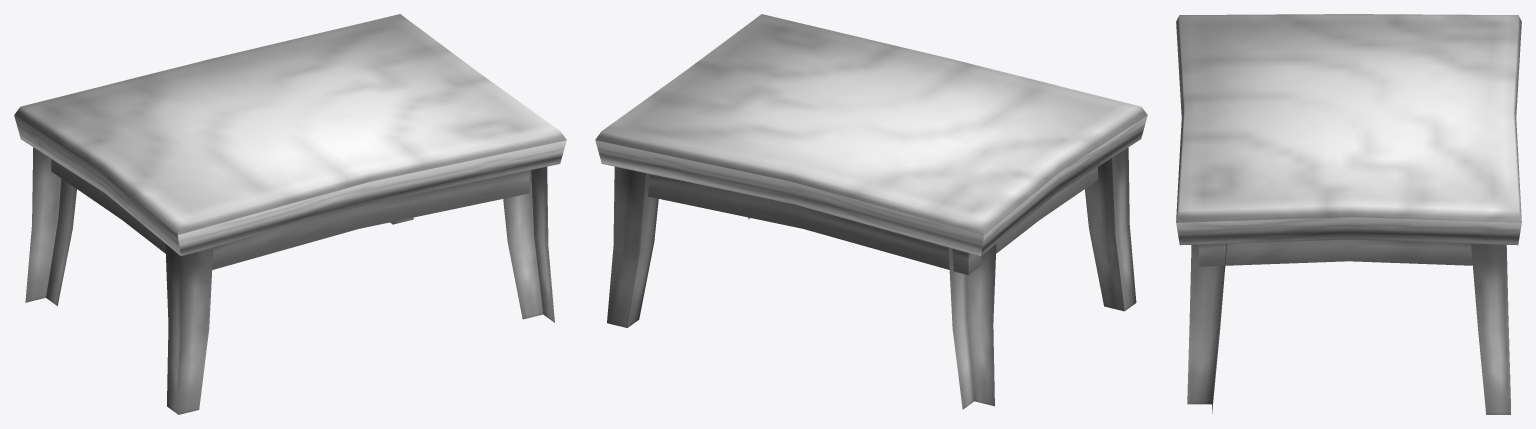
The model's file is TABLE_Bedroom_Desat.glb.
3 renders of one model, left to right at view 1: azimuth 30°, elevation 25°; view 2: azimuth 150°, elevation 25°; view 3: azimuth 270°, elevation 25°, orthographic. The views are drawn at different scales.
Visible parts, largest first — view 1: Bedroom_Tabletop, Bedroom_Tableleg_b1, Bedroom_Tableleg_b3, Bedroom_Tableleg_b; view 2: Bedroom_Tabletop, Bedroom_Tableleg_b2, Bedroom_Tableleg_b3, Bedroom_Tableleg_b1; view 3: Bedroom_Tabletop, Bedroom_Tableleg_b2, Bedroom_Tableleg_b.
Boxes of the visible parts, x1,y1,x2,y2 form: Bedroom_Tabletop: (14,14,566,269); Bedroom_Tableleg_b1: (165,244,213,414); Bedroom_Tableleg_b3: (25,147,76,305); Bedroom_Tableleg_b: (503,166,554,322); Bedroom_Tabletop: (595,14,1147,275); Bedroom_Tableleg_b2: (607,166,658,327); Bedroom_Tableleg_b3: (948,244,996,409); Bedroom_Tableleg_b1: (1084,147,1136,311); Bedroom_Tabletop: (1176,14,1521,266); Bedroom_Tableleg_b2: (1471,243,1510,414); Bedroom_Tableleg_b: (1187,244,1226,413).
Bounding box in the file's own units: 2.37 × 1.17 × 1.72.
Materials: 1 (1 with a texture image).
